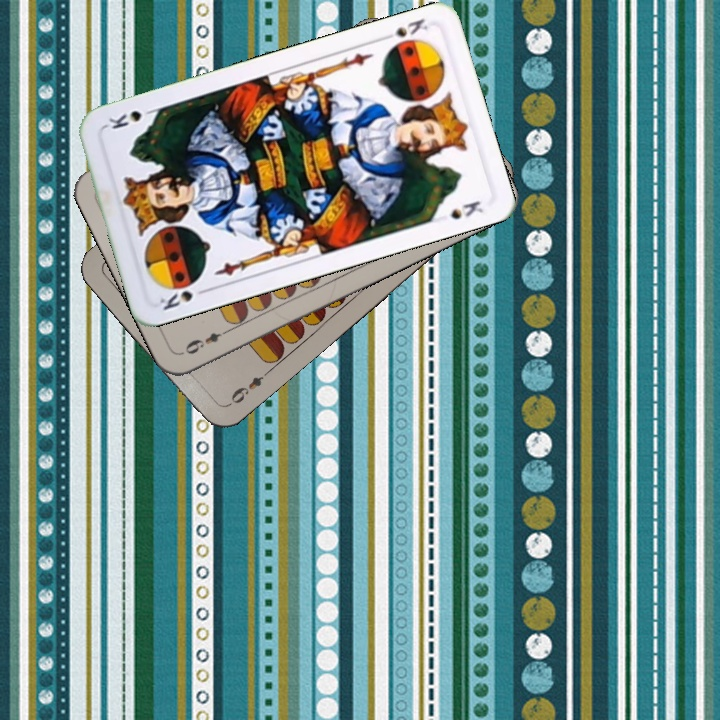E9: (223, 366, 272, 410), (178, 324, 234, 357)
SK: (155, 284, 212, 313), (377, 14, 432, 44)
